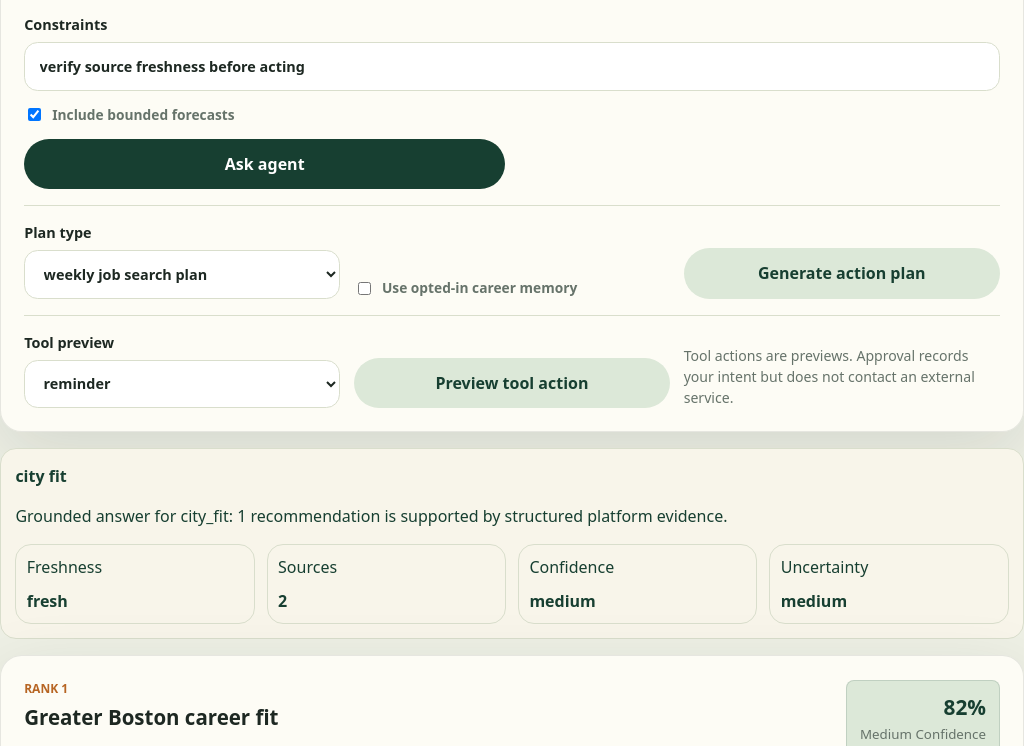
Scenario: CareerAgentPage › blocked autonomous application preview renders backend guardrail message
(page scrolled)
expect the heading "Greater Boston career fit" is shown: met, box x1=24 y1=706 x2=278 y2=728
Select "job application submission" in the dropdown labelled "Tool preview" at point(182, 384), box x1=24 y1=360 x2=340 y2=408
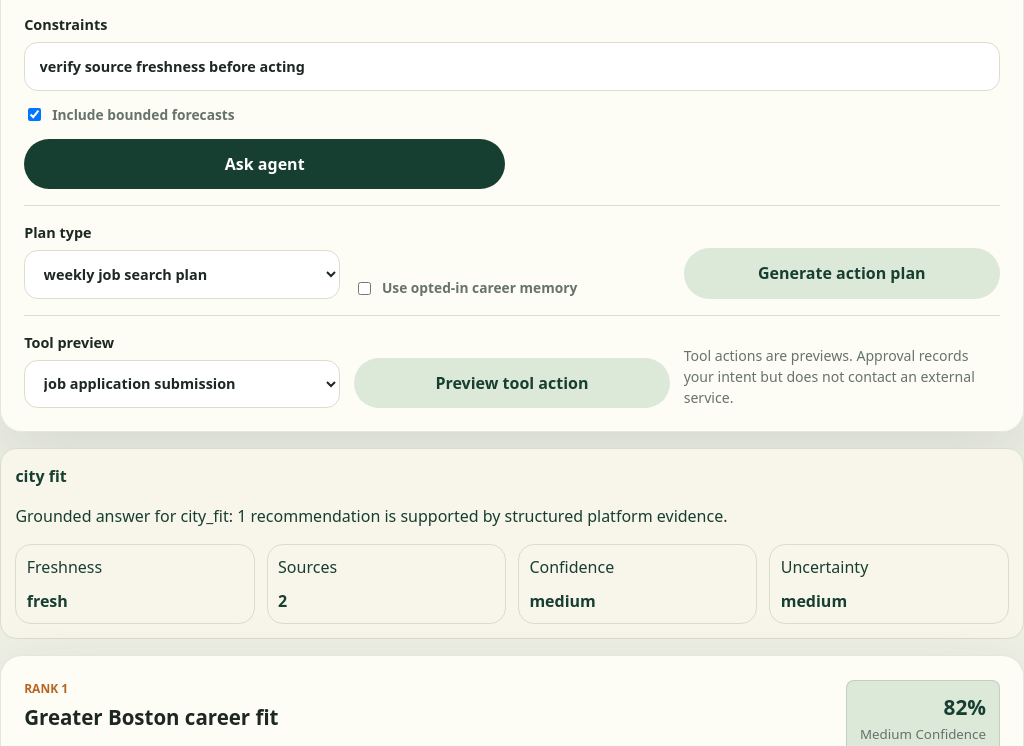
Click the button "Preview tool action" at point(512, 383), box x1=354 y1=358 x2=670 y2=408
(page scrolled)
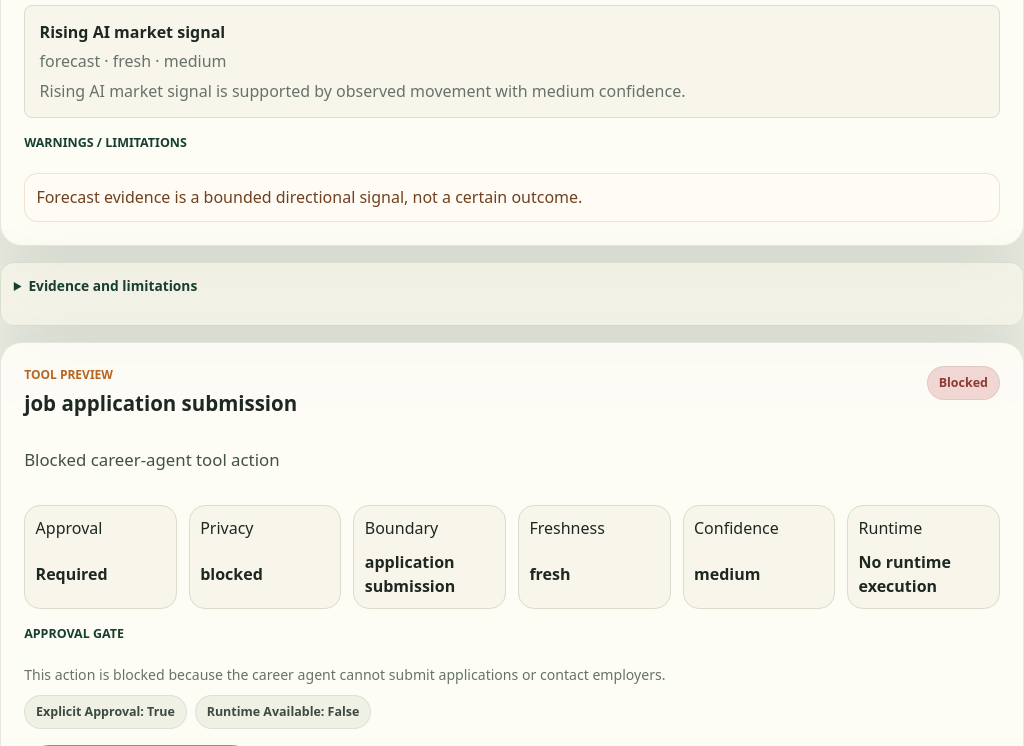
expect the text "blocked" in the row of "job application submission" is shown: met, box x1=939 y1=374 x2=988 y2=391
